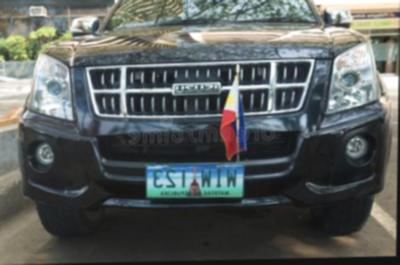License_Plate: (144, 162, 246, 200)
